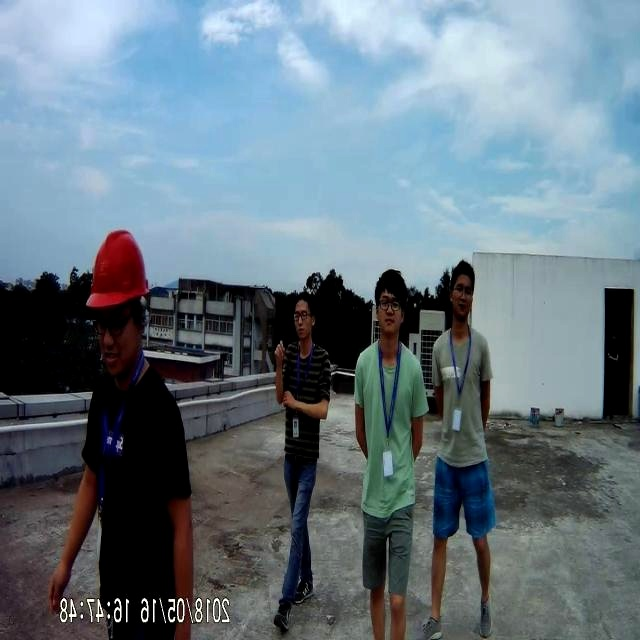Sin_Casco_Mascarrilla: (374, 267, 410, 334), (449, 260, 477, 317)
Sin_Chaleco: (357, 339, 426, 493), (431, 324, 492, 451)
